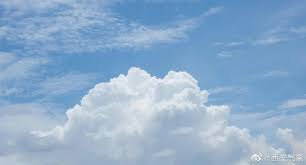Cumulus: (32, 55, 277, 165)
